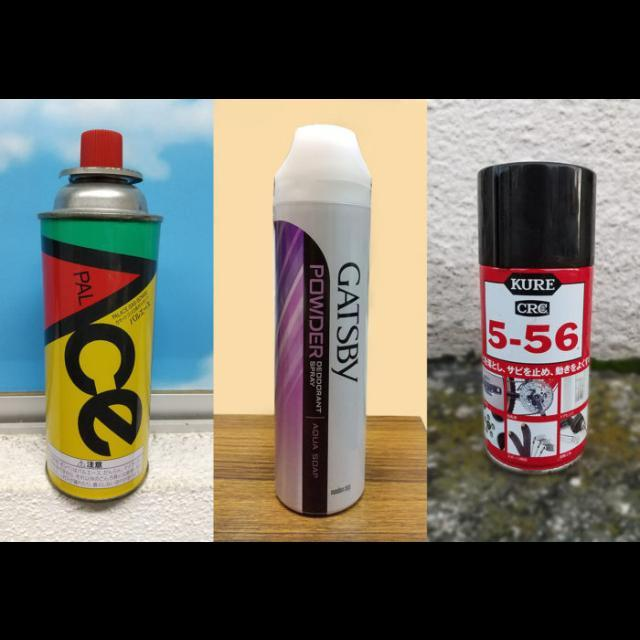chemical_spray_can: (21, 125, 180, 515), (244, 116, 388, 534), (454, 148, 616, 482)
